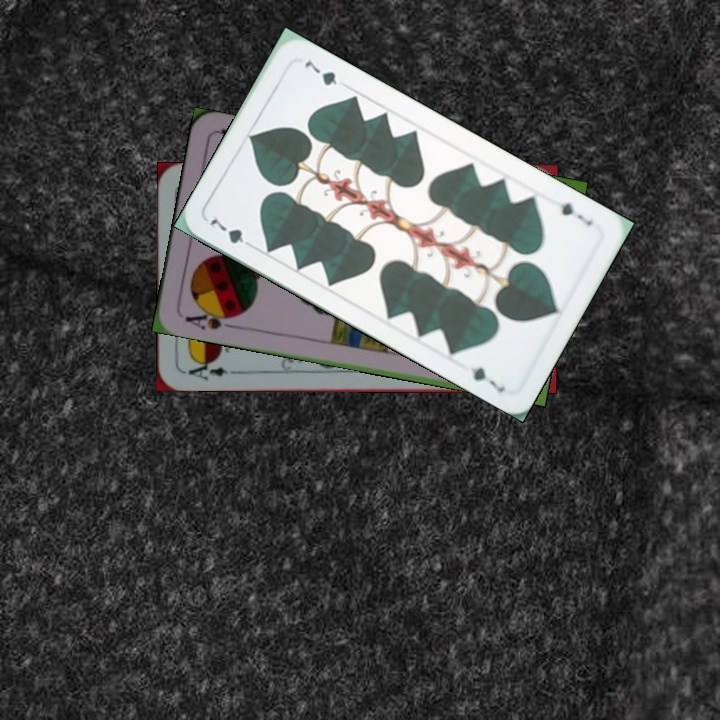EA: (181, 355, 230, 383)
G7: (206, 211, 258, 252), (549, 195, 597, 228)
SA: (181, 304, 240, 333)
